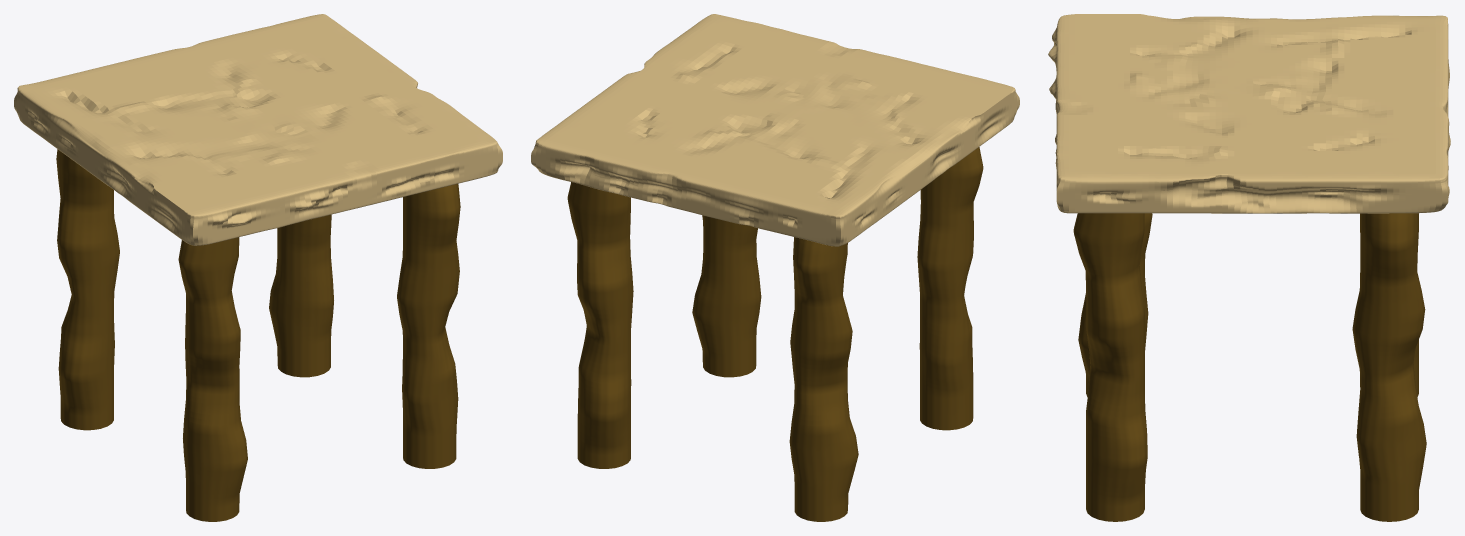
Rendered from prop_table.fbx.
The picture shows the model from 3 angles, left to right: view 1: azimuth 30°, elevation 25°; view 2: azimuth 150°, elevation 25°; view 3: azimuth 270°, elevation 25°; orthographic projection. The views are drawn at different scales.
Visible parts, largest first — view 1: table_top_LOD0, table_leg3_LOD0, table_leg2_LOD0, table_leg4_LOD0, table_leg1_LOD0; view 2: table_top_LOD0, table_leg4_LOD0, table_leg1_LOD0, table_leg3_LOD0, table_leg2_LOD0; view 3: table_top_LOD0, table_leg1_LOD0, table_leg2_LOD0, table_leg3_LOD0.
Boxes of the visible parts, x1,y1,x2,y2 form: table_top_LOD0: (14,14,502,245); table_leg3_LOD0: (178,237,247,521); table_leg2_LOD0: (397,184,460,468); table_leg4_LOD0: (56,149,119,430); table_leg1_LOD0: (269,214,333,377); table_top_LOD0: (531,14,1019,246); table_leg4_LOD0: (789,237,858,521); table_leg1_LOD0: (567,182,633,468); table_leg3_LOD0: (917,147,983,430); table_leg2_LOD0: (692,215,761,377); table_top_LOD0: (1048,14,1450,213); table_leg1_LOD0: (1352,213,1426,521); table_leg2_LOD0: (1073,213,1147,521); table_leg3_LOD0: (1078,213,1152,396).
Size of what is drawn, in the model's own units: 101 by 101 by 103.
